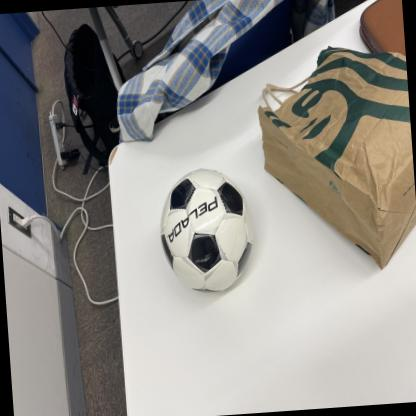ball: (158, 165, 256, 297)
